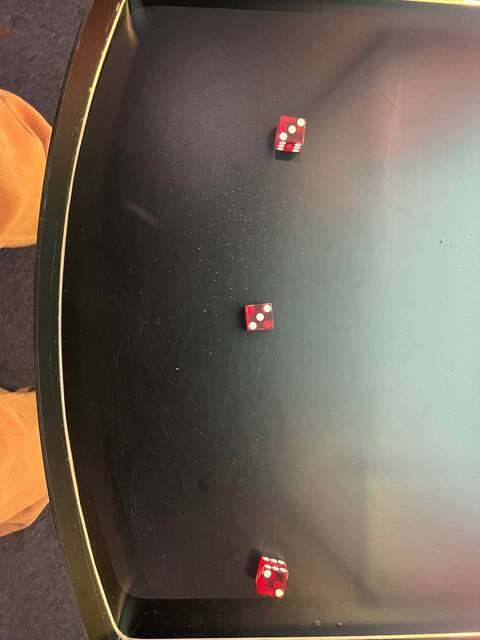three: (240, 299, 280, 335), (272, 111, 309, 146)
two: (252, 567, 292, 602)
